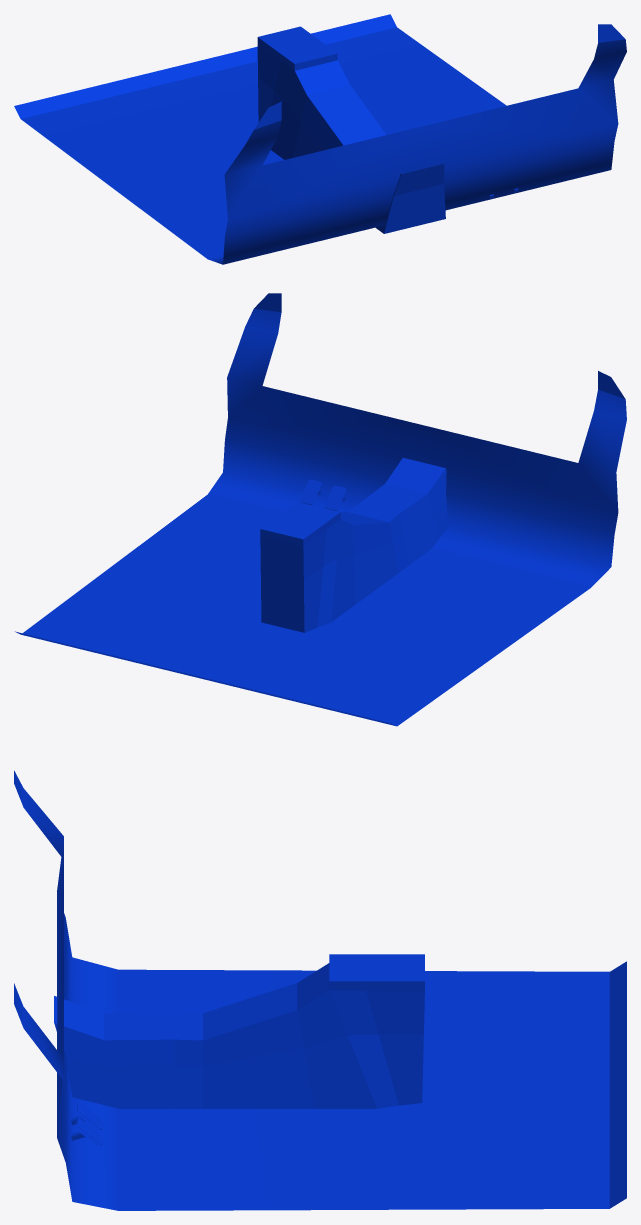
The model's file is Car_Floor.fbx.
3 renders of one model, top to bottom at view 1: azimuth 30°, elevation 25°; view 2: azimuth 150°, elevation 25°; view 3: azimuth 270°, elevation 25°, orthographic. The views are drawn at different scales.
Parts seen in each view (by area): view 1: Car_Floor; view 2: Car_Floor; view 3: Car_Floor.
Boxes of the visible parts, x1,y1,x2,y2 form: Car_Floor: (14, 14, 626, 264); Car_Floor: (15, 293, 626, 726); Car_Floor: (14, 770, 626, 1210).
Size of the model in its own units: 183 by 80.54 by 192.
